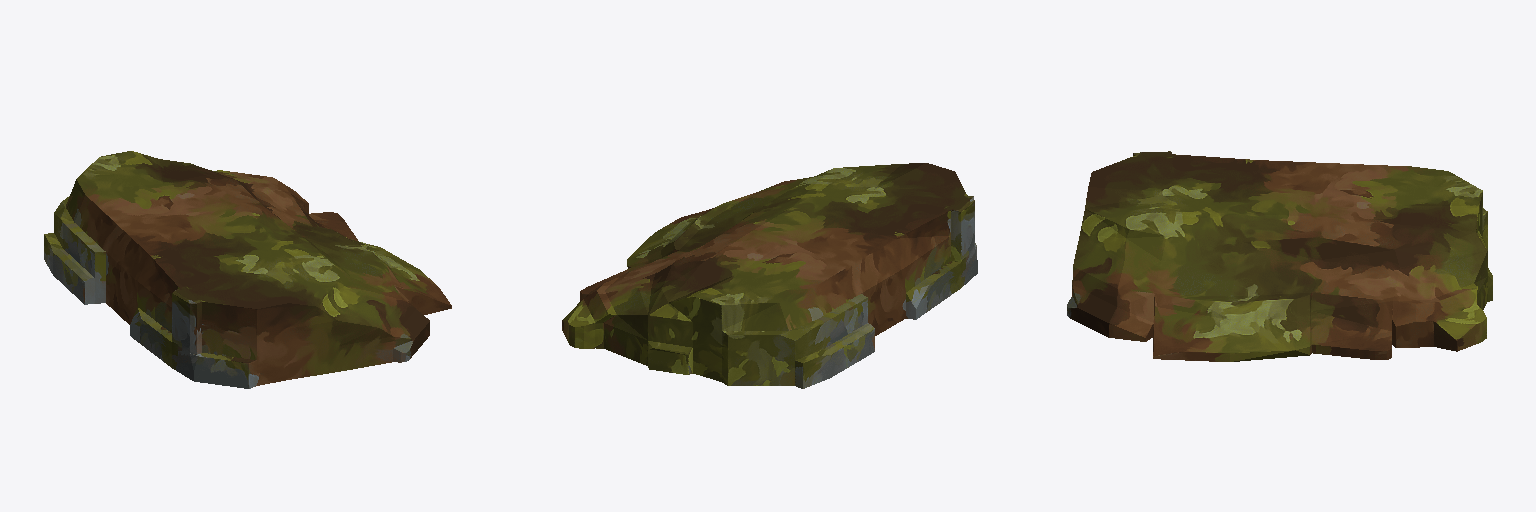
The picture shows the model from 3 angles: view 1: azimuth 30°, elevation 25°; view 2: azimuth 150°, elevation 25°; view 3: azimuth 270°, elevation 25°; orthographic projection.
Parts seen in each view (by area): view 1: Cylinder.002; view 2: Cylinder.002; view 3: Cylinder.002.
Boxes of the visible parts, x1,y1,x2,y2 form: Cylinder.002: [44, 151, 451, 388]; Cylinder.002: [562, 163, 977, 388]; Cylinder.002: [1067, 151, 1492, 361].
Bounding box in the file's own units: 24.88 × 6.56 × 33.02.
Materials: 1 (1 with a texture image).